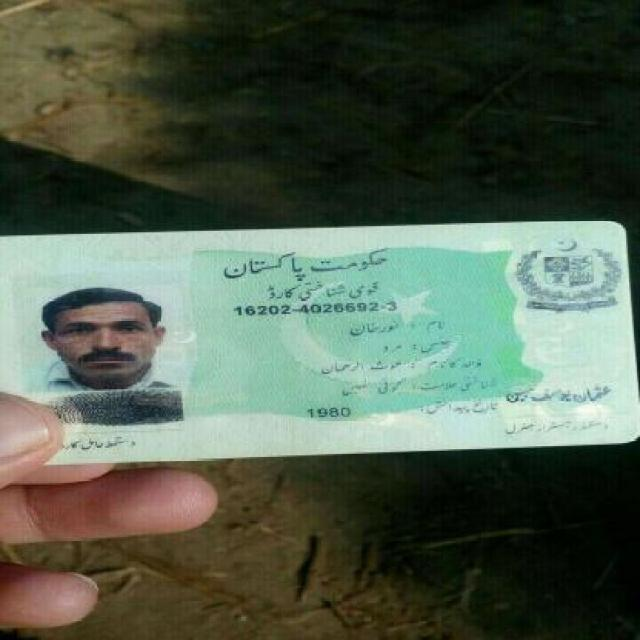Front: (9, 218, 637, 456)
